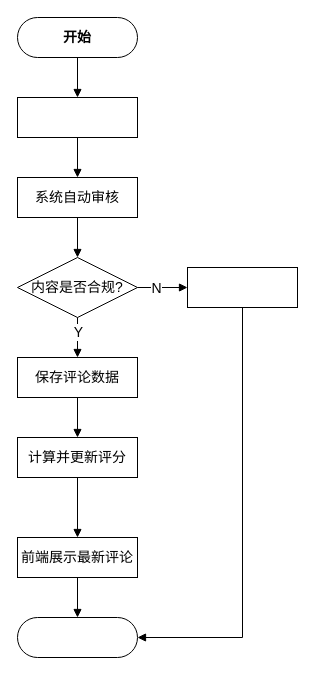
The diagram is 315 pixels wide and 675 high, and some of its shapes have lost their labels. Here are the shapes that lost their labels. From the top down, the centre of each, then its label:
(77,117): 提交用户评论
(242,287): 拦截并驳回评论
(77,637): 结束
